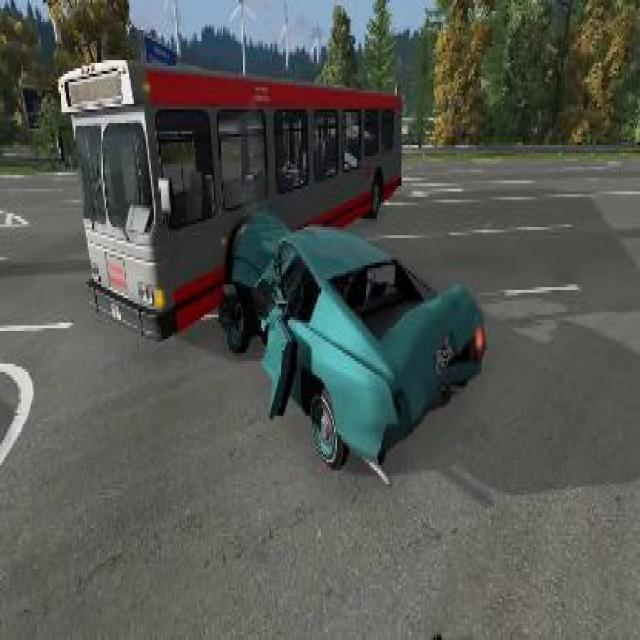accident: (51, 44, 494, 476)
